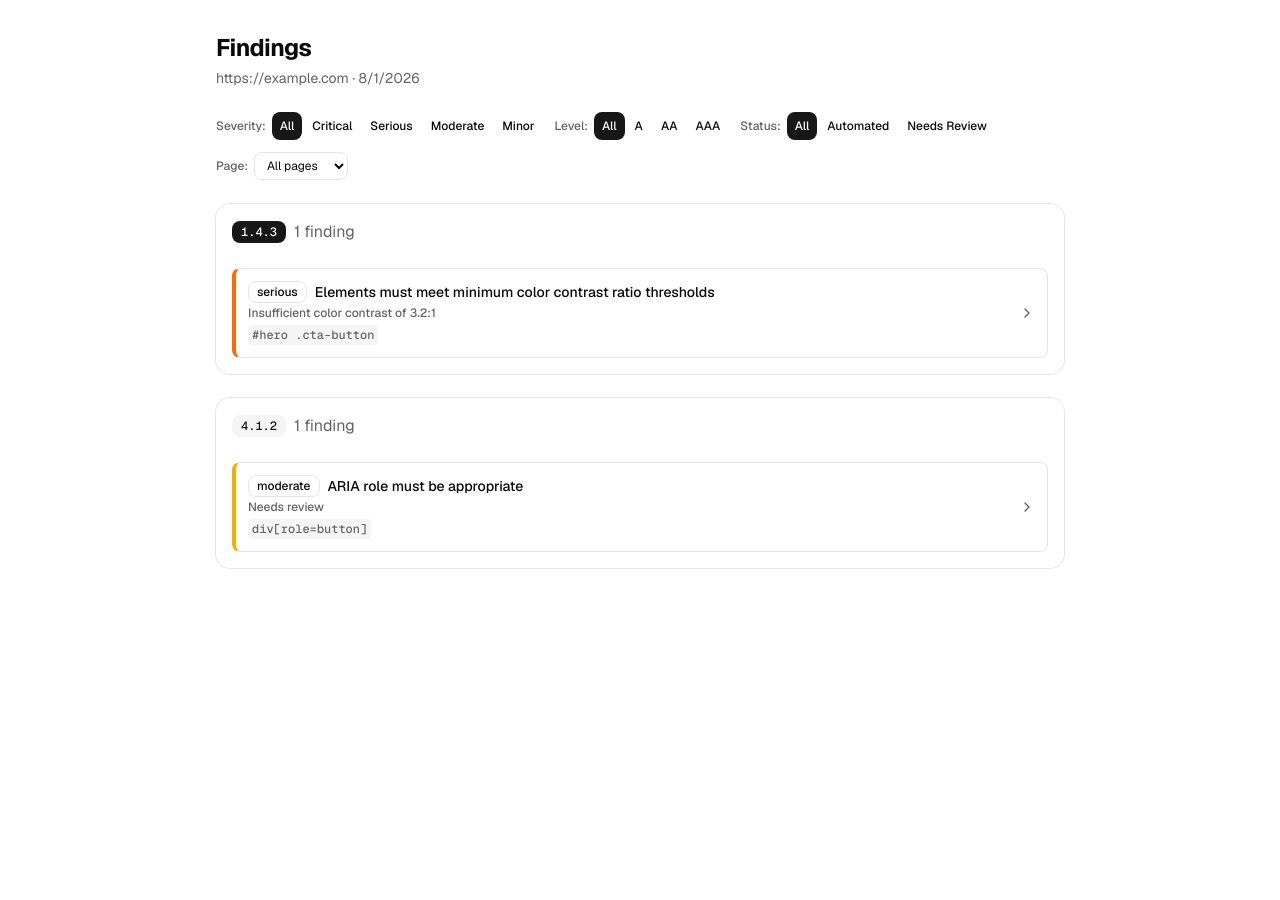
Test: findings-list › opens finding detail on row click
Click the button "Elements must meet minimum color contrast ratio thresholds".
click(277, 292)  # box [232,268,1048,358]
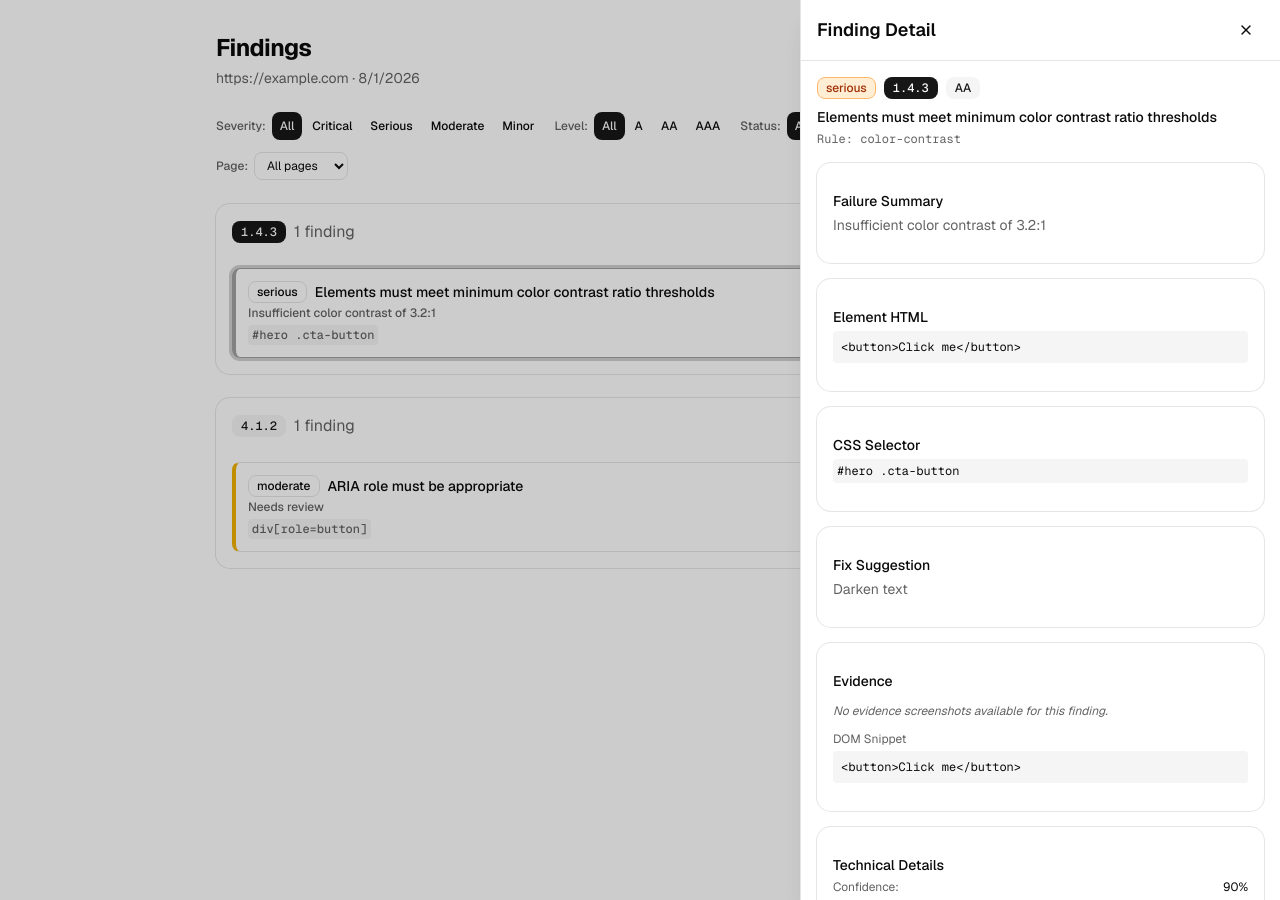
Expected: the heading "Finding Detail" is shown, [817,16,936,44]
Expected: the text "Rule: color-contrast" is shown, [817,131,961,147]
